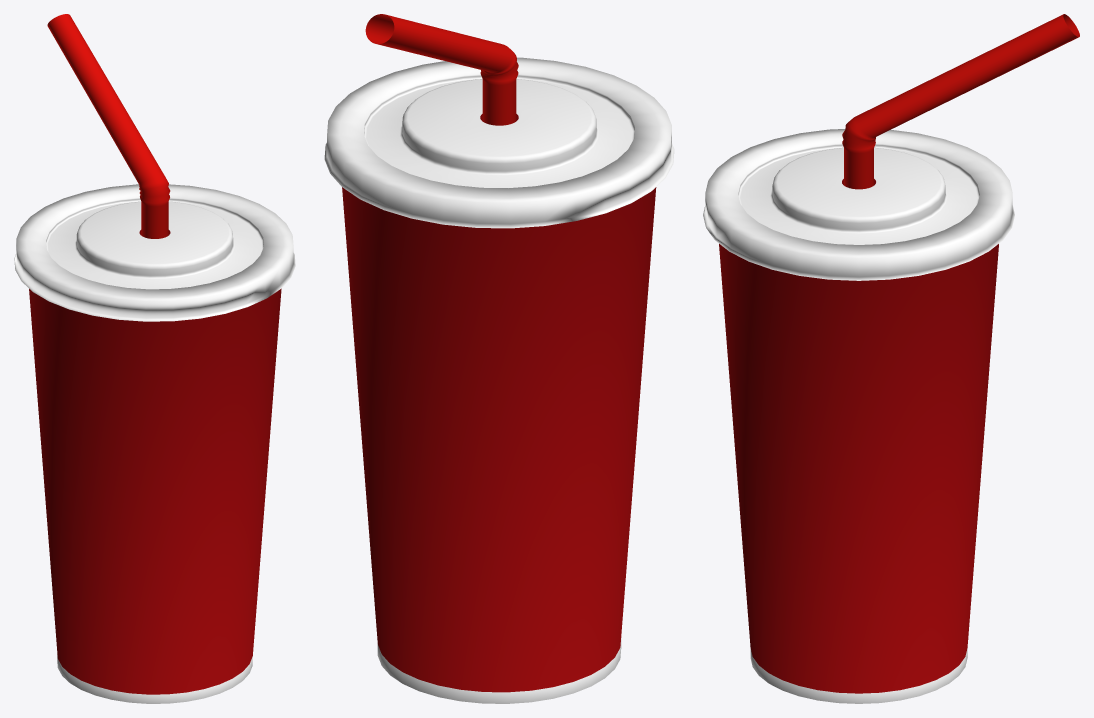
The model's file is drink-cup.glb.
3 renders of one model, left to right at view 1: azimuth 30°, elevation 25°; view 2: azimuth 150°, elevation 25°; view 3: azimuth 270°, elevation 25°, orthographic. The views are drawn at different scales.
Parts seen in each view (by area): view 1: cup, top, straw; view 2: cup, top, straw; view 3: cup, top, straw.
Boxes of the visible parts, bbox=[...] form: cup: bbox=[29, 230, 281, 703]; top: bbox=[14, 184, 295, 321]; straw: bbox=[47, 14, 170, 238]; cup: bbox=[342, 114, 656, 703]; top: bbox=[324, 57, 674, 228]; straw: bbox=[365, 14, 518, 125]; cup: bbox=[719, 179, 998, 703]; top: bbox=[703, 129, 1014, 280]; straw: bbox=[842, 14, 1079, 189].
Bounding box in the file's own units: 2.53 × 5.74 × 3.05.
Materials: 4 (1 with a texture image).
